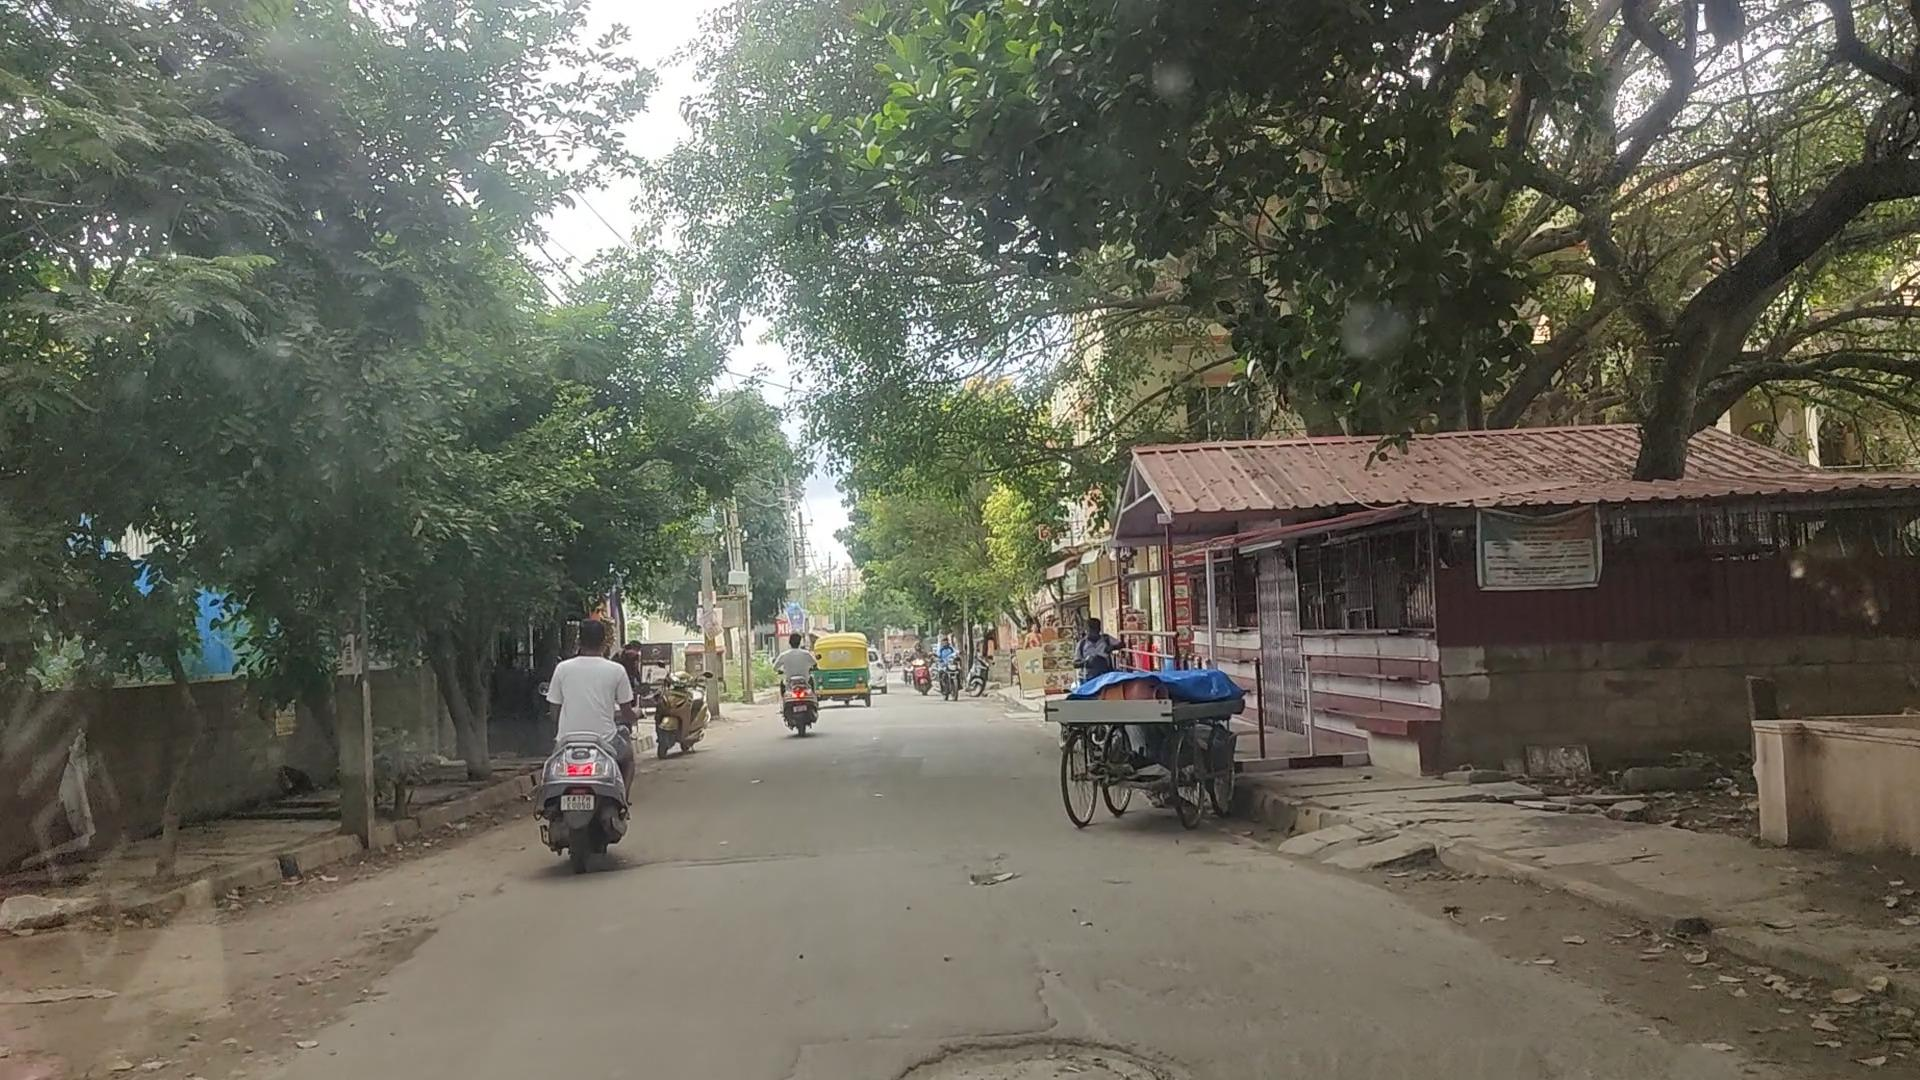LMV: (549, 612, 646, 895)
RoadDamages: (225, 931, 510, 1035), (675, 823, 825, 877)
